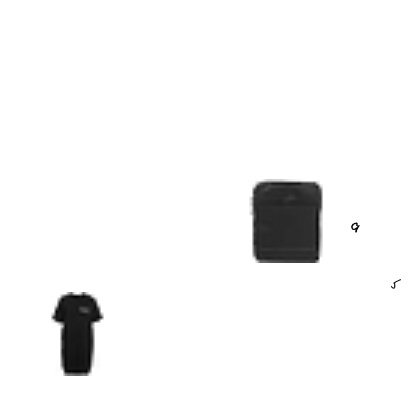5: (388, 277, 402, 291)
9: (348, 220, 362, 234)
Bag: (244, 179, 328, 263)
Dress: (34, 292, 118, 376)
